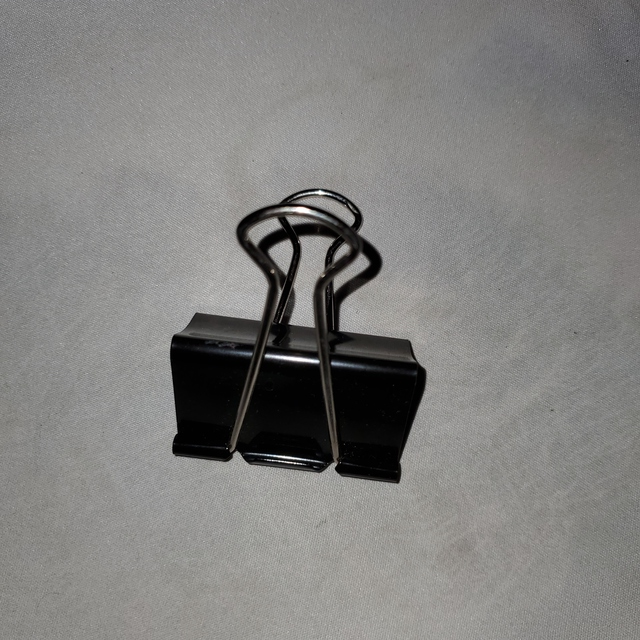clip: (167, 173, 427, 496)
